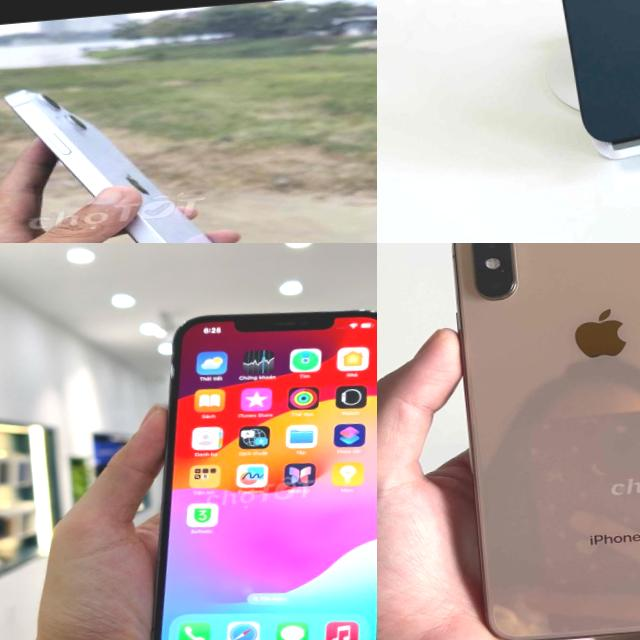gen_12_13: (114, 294, 377, 640)
gen_14: (0, 68, 264, 243)
gen_15: (513, 0, 640, 184)
gen_x_xs: (429, 243, 640, 640)
